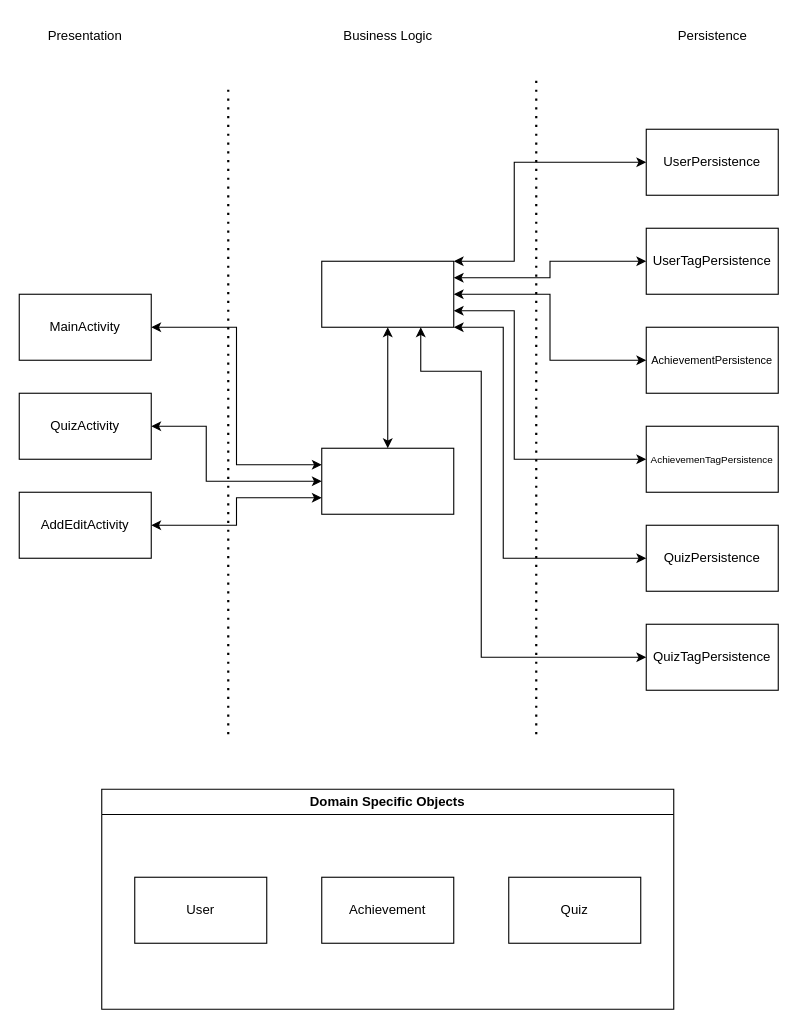
The diagram is 798 pixels wide and 1029 high, and some of its shapes have lost their labels. Each missing label, with the centre of its shape:
"QuizHandler" goes at point 387,480.
"Services" goes at point 387,293.
